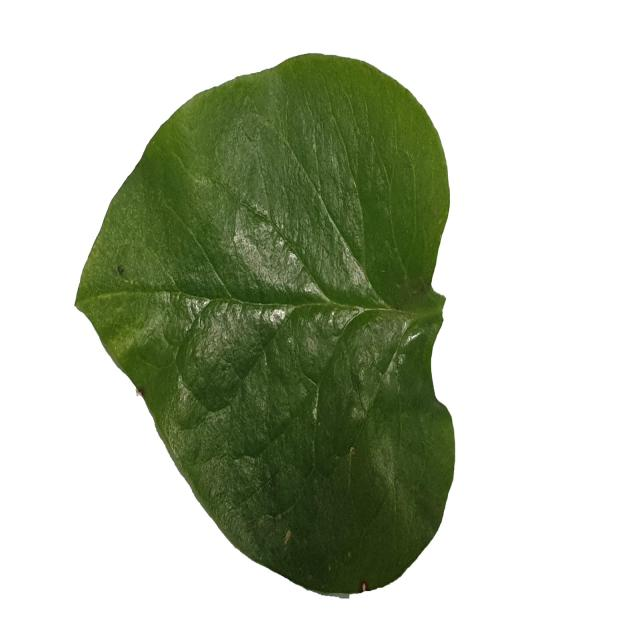Medicinal-Basale: (74, 51, 457, 593)
